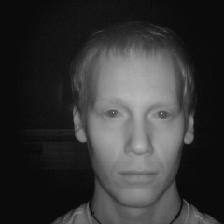normal: (68, 19, 196, 204)
